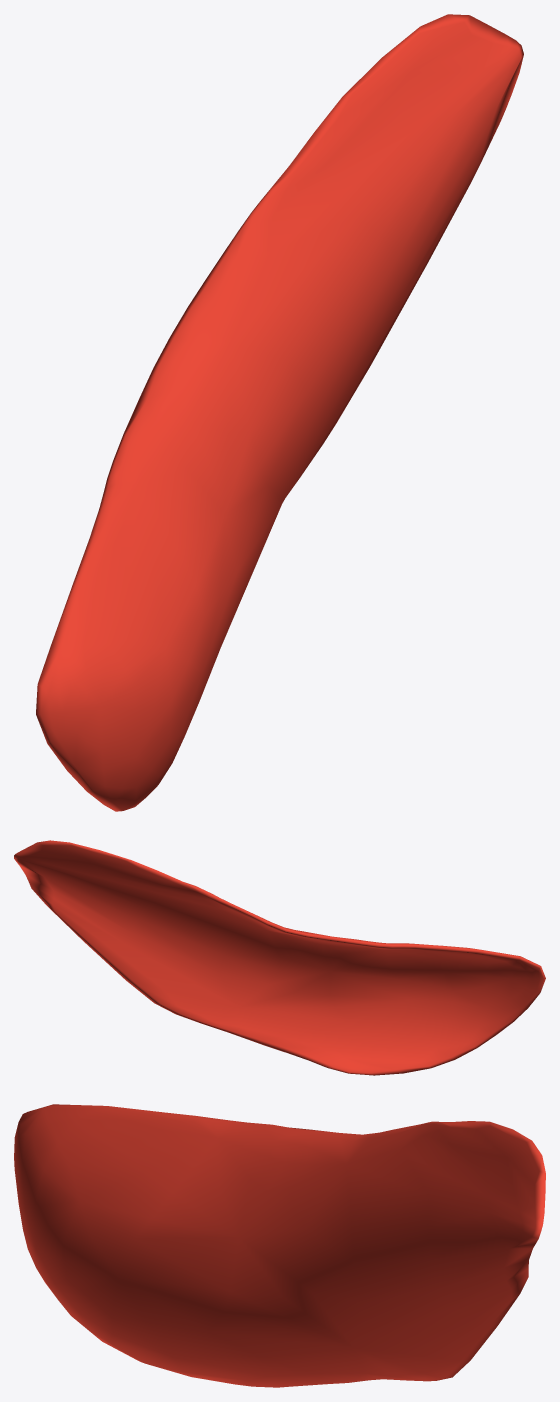
Rendered from Pectineus_muscle-Pubic_insertion.l_Generated_Mesh_From_X3D.809.glb.
The picture shows the model from 3 angles, top to bottom: view 1: azimuth 30°, elevation 25°; view 2: azimuth 150°, elevation 25°; view 3: azimuth 270°, elevation 25°; orthographic projection. The views are drawn at different scales.
Visible parts, largest first — view 1: Pectineus_muscle-Pubic_insertion.l_Generated_Mesh_From_X3D.8; view 2: Pectineus_muscle-Pubic_insertion.l_Generated_Mesh_From_X3D.8; view 3: Pectineus_muscle-Pubic_insertion.l_Generated_Mesh_From_X3D.8.
Part boxes in pixels (left/top/right/bottom): Pectineus_muscle-Pubic_insertion.l_Generated_Mesh_From_X3D.8: left=36, top=14, right=523, bottom=811; Pectineus_muscle-Pubic_insertion.l_Generated_Mesh_From_X3D.8: left=14, top=840, right=545, bottom=1075; Pectineus_muscle-Pubic_insertion.l_Generated_Mesh_From_X3D.8: left=14, top=1104, right=545, bottom=1387.
Bounding box in the file's own units: 0.0387 × 0.0232 × 0.0255.
